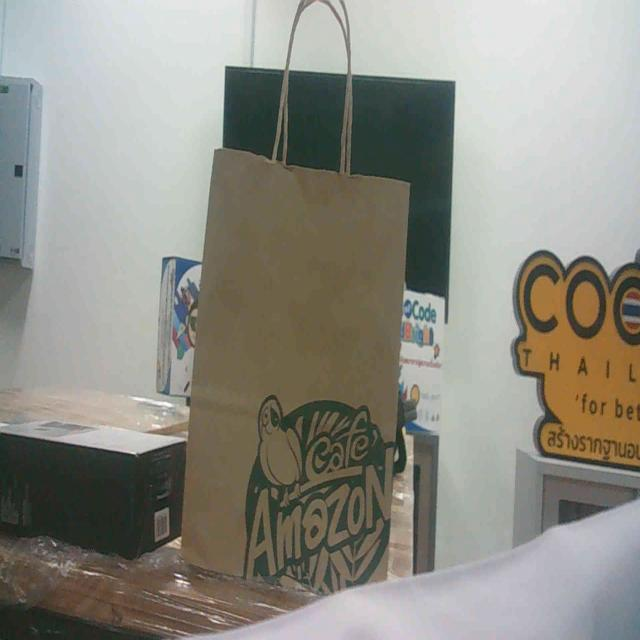bag: (160, 125, 426, 624)
